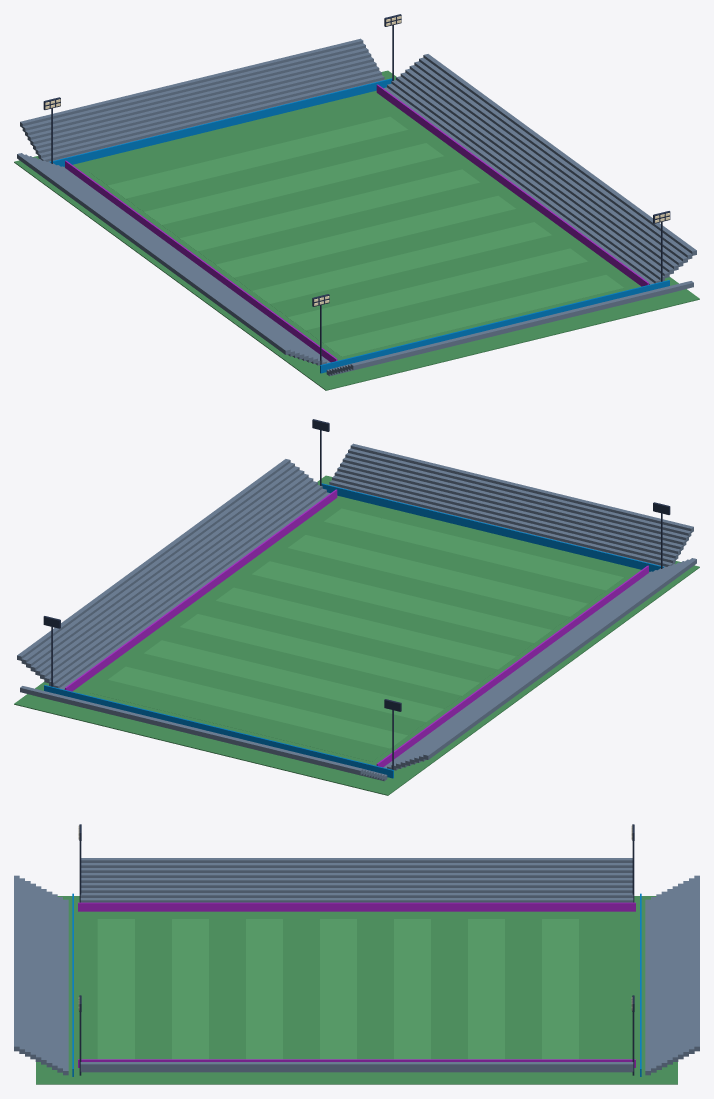
The model's file is stadium.glb.
3 views of the same model, one above another, from view 1: azimuth 30°, elevation 25°; view 2: azimuth 150°, elevation 25°; view 3: azimuth 270°, elevation 25° (orthographic). The views are drawn at different scales.
Visible parts, largest first — view 1: Surround, EndStand, MowingStripe, EndFascia, SideFascia, FloodlightMast; view 2: Surround, EndStand, MowingStripe, EndFascia, SideFascia, FloodlightMast; view 3: Surround, EndStand, MowingStripe, SideFascia, FloodlightMast, EndFascia.
Boxes of the visible parts, x1=… form: Surround: x1=14, y1=70, x2=699, y2=390; EndStand: x1=17, y1=38, x2=696, y2=376; MowingStripe: x1=108, y1=116, x2=623, y2=356; EndFascia: x1=49, y1=78, x2=669, y2=373; SideFascia: x1=65, y1=84, x2=648, y2=362; FloodlightMast: x1=43, y1=14, x2=670, y2=364; Surround: x1=14, y1=475, x2=699, y2=795; EndStand: x1=17, y1=443, x2=696, y2=781; MowingStripe: x1=108, y1=508, x2=623, y2=748; EndFascia: x1=44, y1=483, x2=664, y2=778; SideFascia: x1=65, y1=489, x2=648, y2=767; FloodlightMast: x1=43, y1=419, x2=670, y2=769; Surround: x1=36, y1=896, x2=677, y2=1084; EndStand: x1=14, y1=858, x2=699, y2=1075; MowingStripe: x1=97, y1=919, x2=578, y2=1059; SideFascia: x1=78, y1=902, x2=635, y2=1067; FloodlightMast: x1=79, y1=824, x2=634, y2=1075; EndFascia: x1=72, y1=893, x2=641, y2=1076.
Bounding box in the file's own units: 98.95 × 17.23 × 139.
